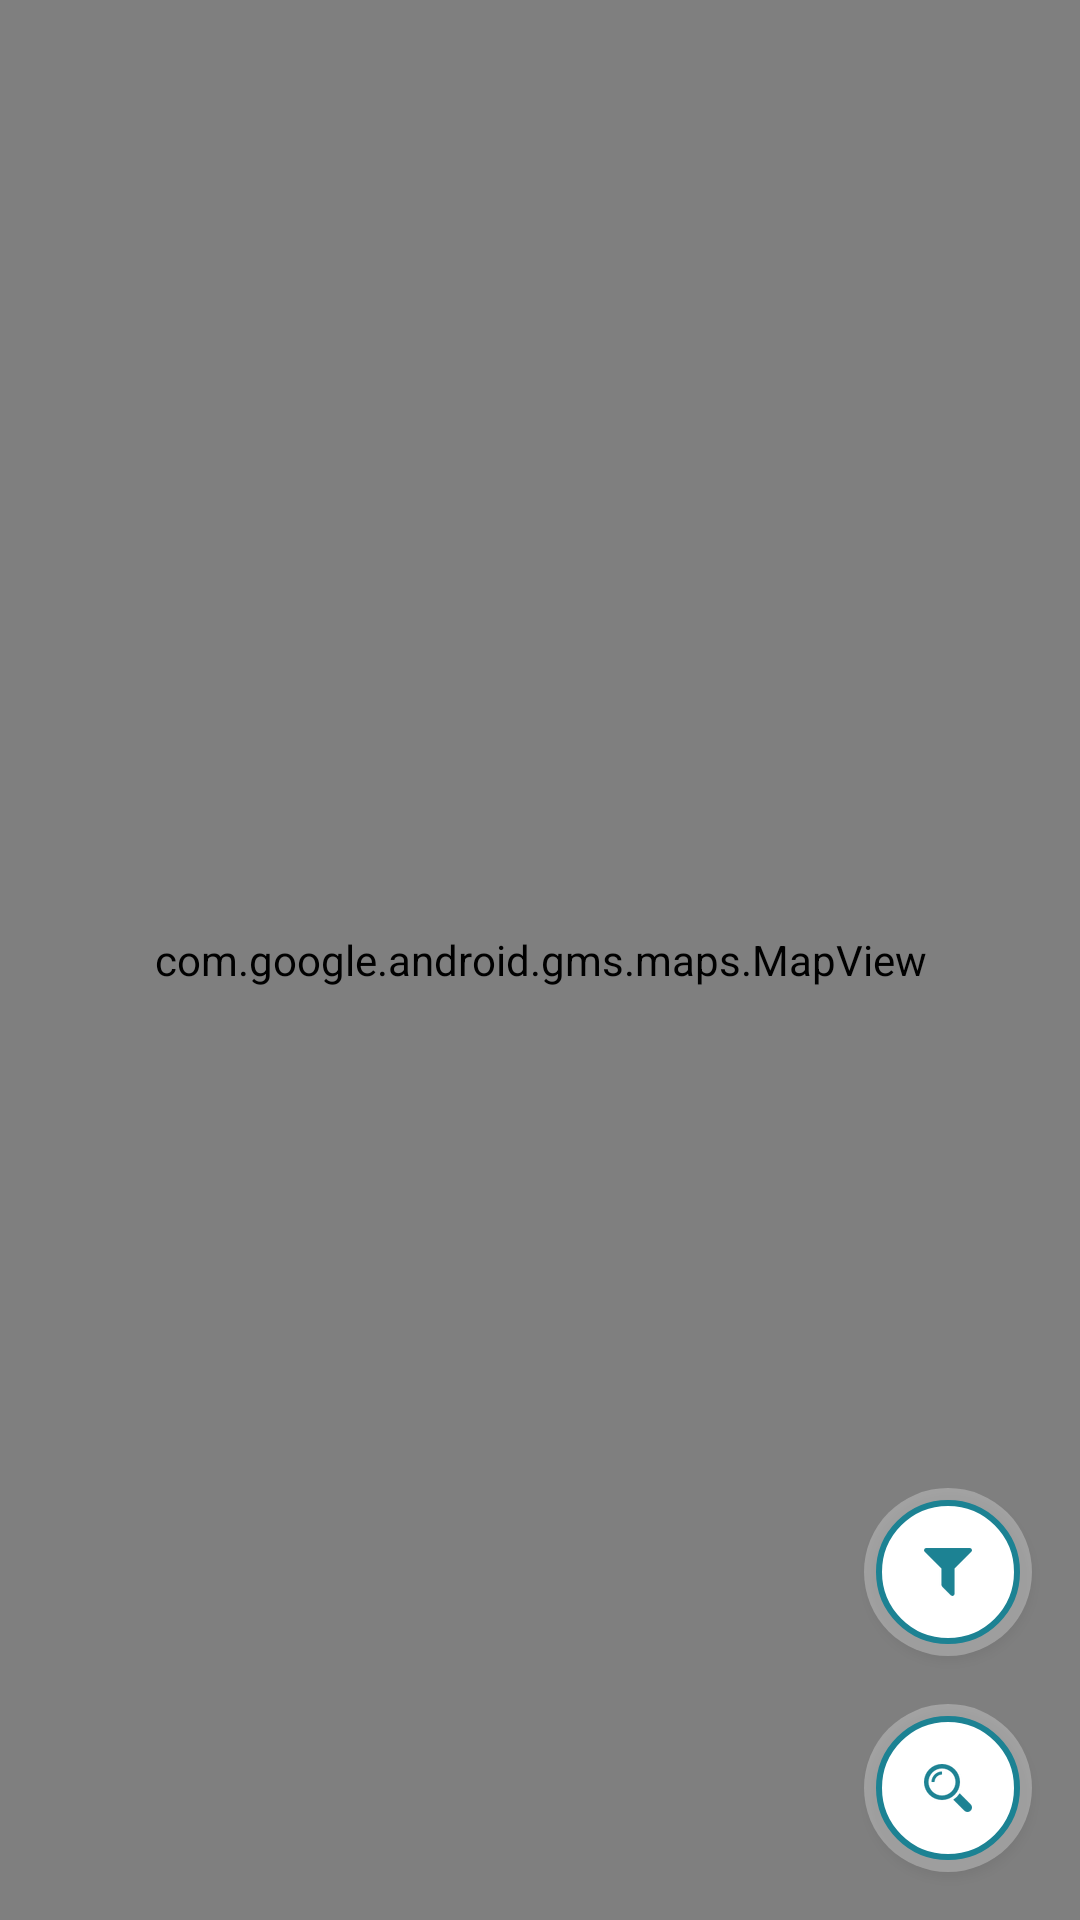

Screen size 1080*1920. Icon name, then its box in pixels as (x1, y1, x2, y2):
filter: (864, 1488, 1032, 1656)
search: (864, 1704, 1032, 1872)
